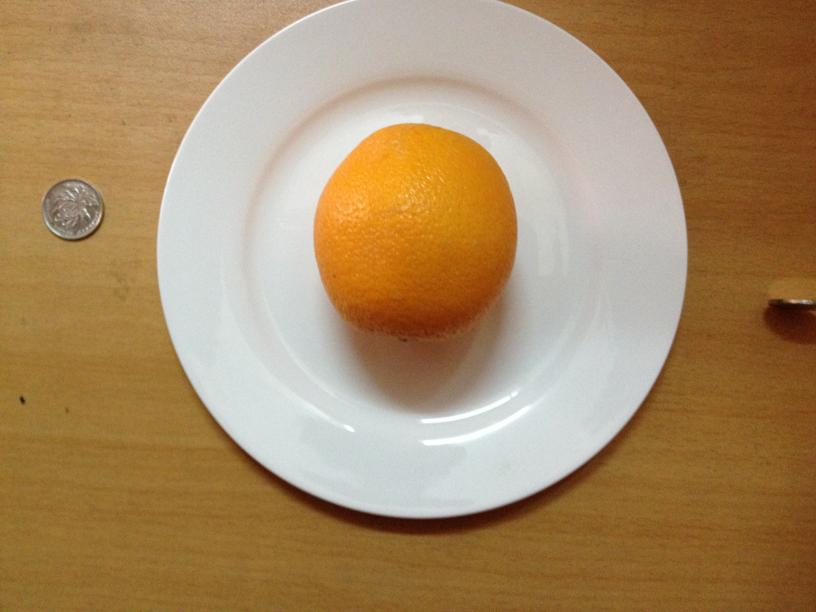coin: (41, 177, 105, 243)
orange: (313, 124, 517, 344)
